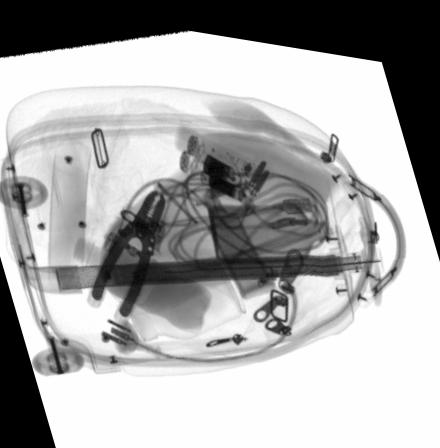Pliers: (92, 184, 165, 317)
